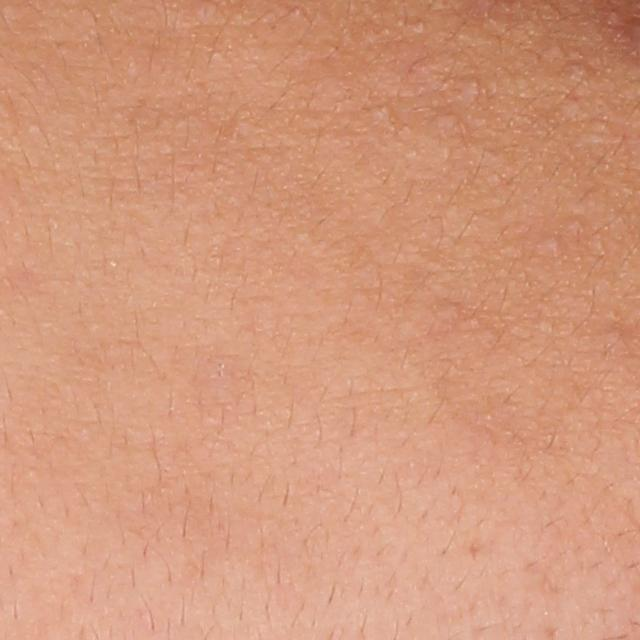comedo: (537, 235, 567, 258), (463, 77, 485, 101)
